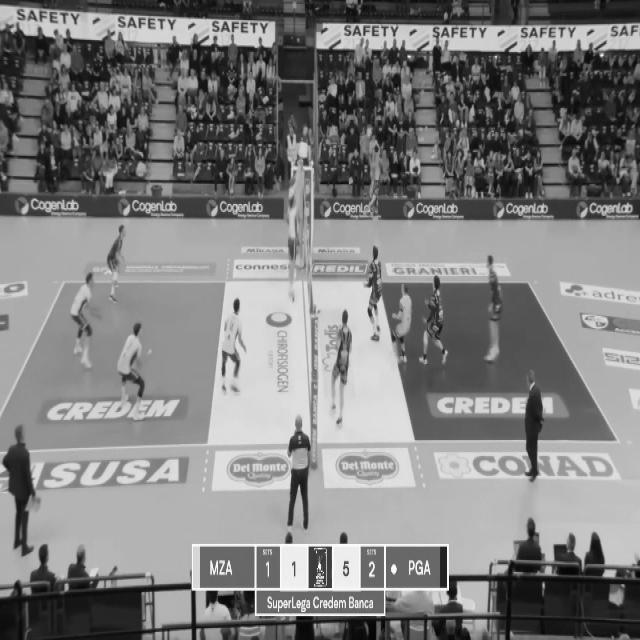volleyball court: (0, 276, 617, 452)
